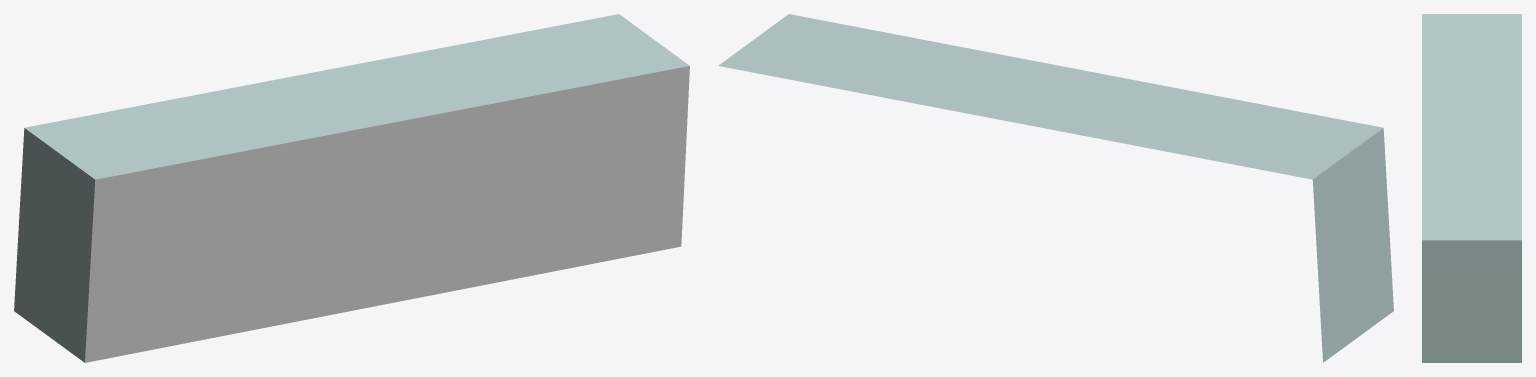
3 views of the same model, side by side, from view 1: azimuth 30°, elevation 25°; view 2: azimuth 150°, elevation 25°; view 3: azimuth 270°, elevation 25° (orthographic). The views are drawn at different scales.
Visible parts, largest first — view 1: 0_3_2_1_2_0_2_2_1; view 2: 0_3_2_1_2_0_2_2_1; view 3: 0_3_2_1_2_0_2_2_1.
Boxes of the visible parts, left/top/right/bottom form: 0_3_2_1_2_0_2_2_1: left=14, top=14, right=689, bottom=362; 0_3_2_1_2_0_2_2_1: left=718, top=14, right=1393, bottom=362; 0_3_2_1_2_0_2_2_1: left=1422, top=14, right=1521, bottom=362.
Bounding box in the file's own units: 14.78 × 4.9 × 3.
